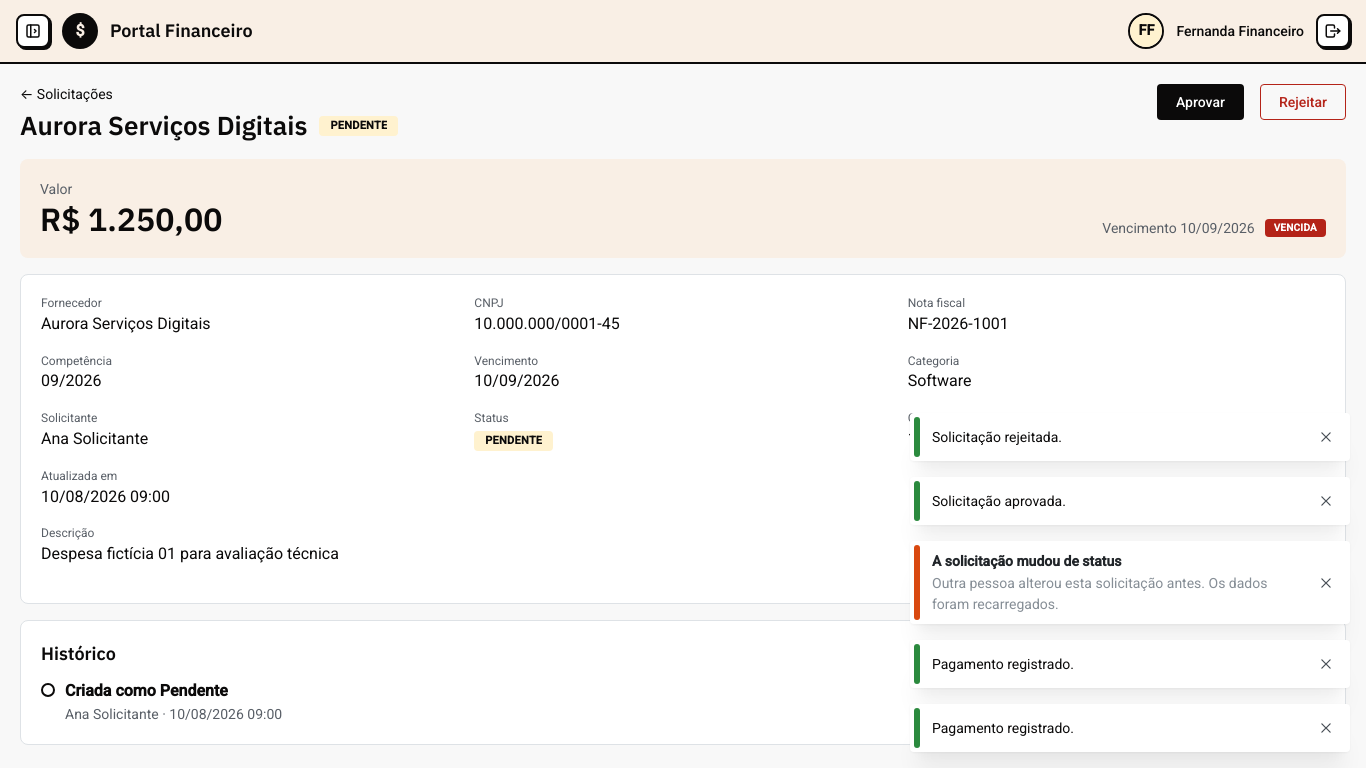
Test: RequestDetailPage › a 422 on a field the modal lacks shows in the modal alert
The image size is (1366, 768).
Click the button "Aprovar" at (1200, 102), box [1157, 84, 1244, 120]
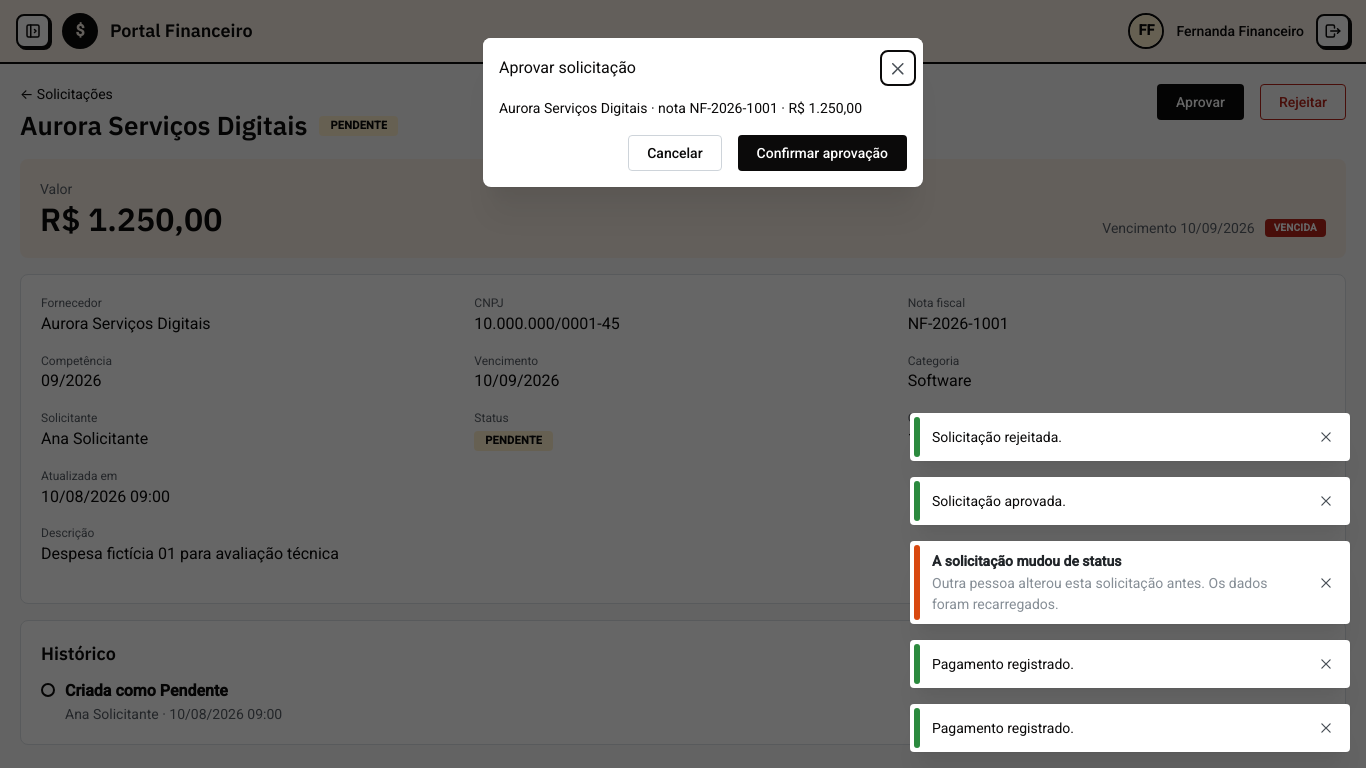
Click the button "Confirmar aprovação" at (822, 153), box [738, 135, 907, 171]
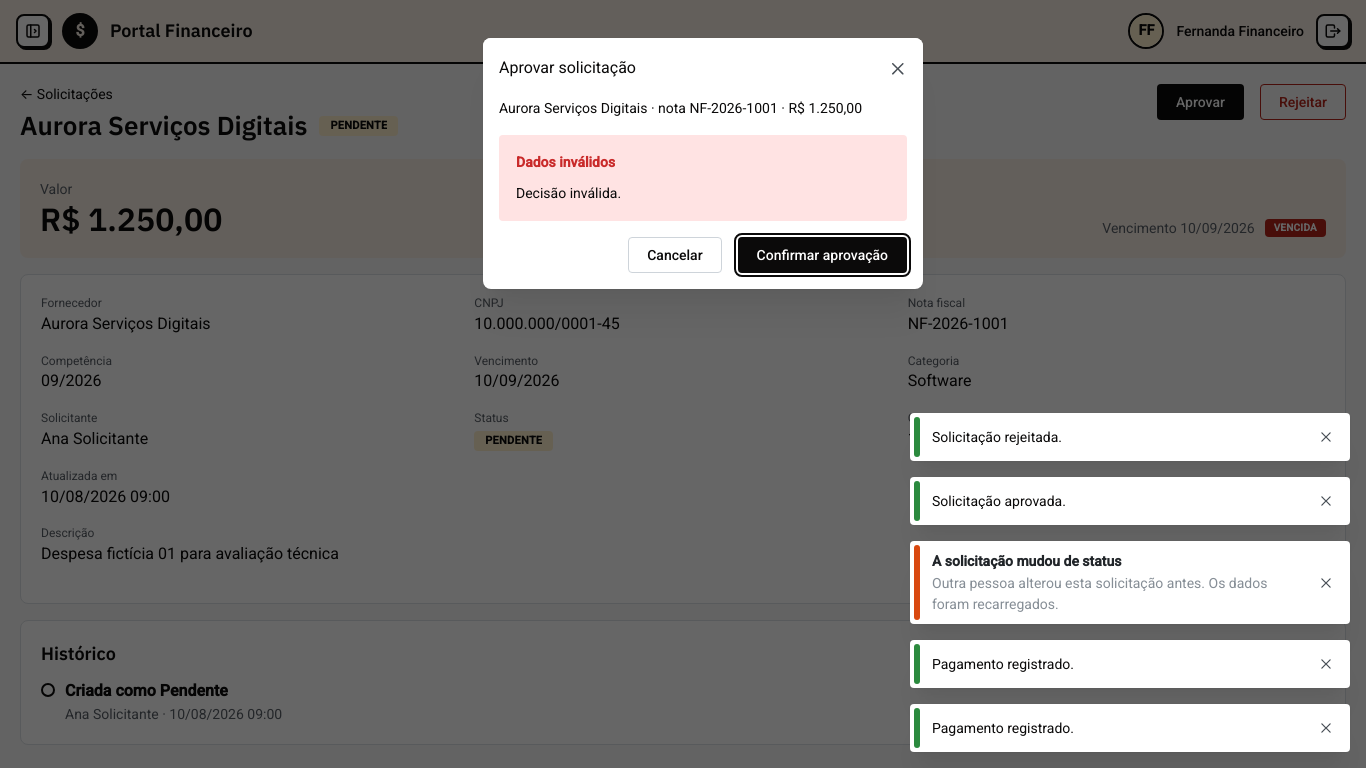
Expected: the message "Dados inválidos Decisão inválida." is shown, [499, 135, 907, 221]
